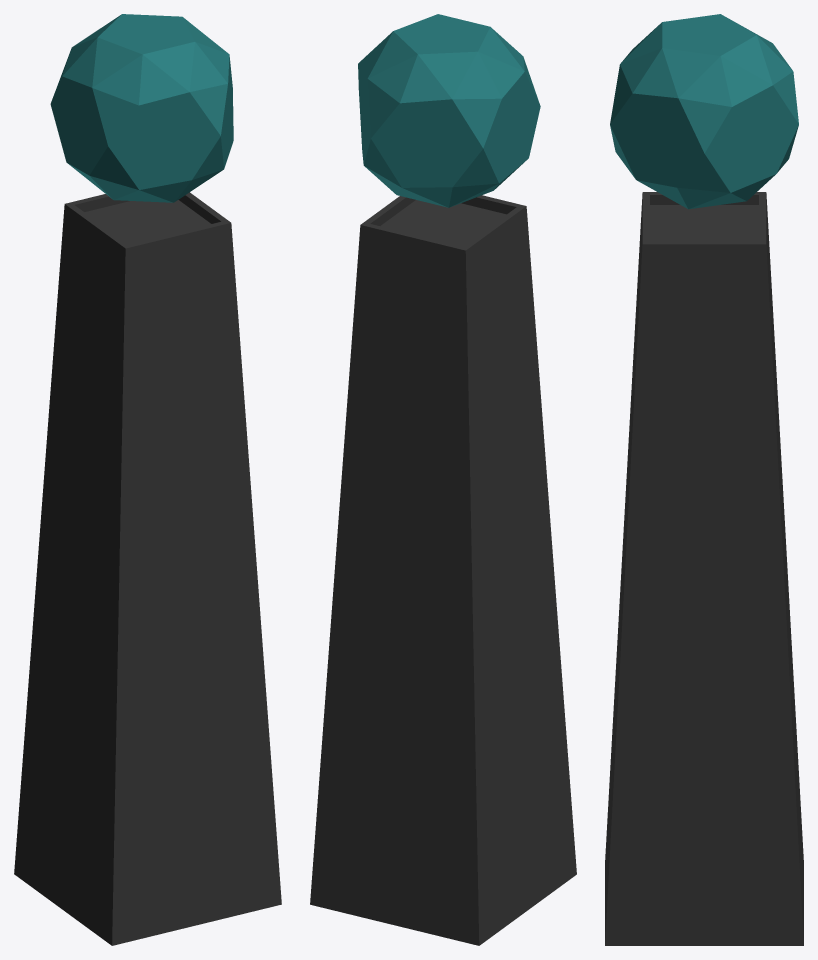
File: pillar.fbx
The picture shows the model from 3 angles, left to right: view 1: azimuth 30°, elevation 25°; view 2: azimuth 150°, elevation 25°; view 3: azimuth 270°, elevation 25°; orthographic projection.
Visible parts, largest first — view 1: Cube; view 2: Cube; view 3: Cube.
Part boxes in pixels (left/top/right/bottom): Cube: left=14, top=14, right=281, bottom=945; Cube: left=310, top=14, right=576, bottom=945; Cube: left=605, top=14, right=803, bottom=945.
Bounding box in the file's own units: 200 × 964 × 200.
